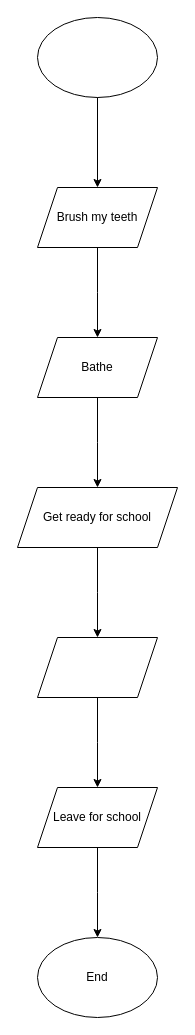
This 195x1035 diagram has some shape labels left out. Each missing label, with the centre of its shape:
"Eat" goes at point (97, 667).
"Wake up" goes at point (97, 57).
